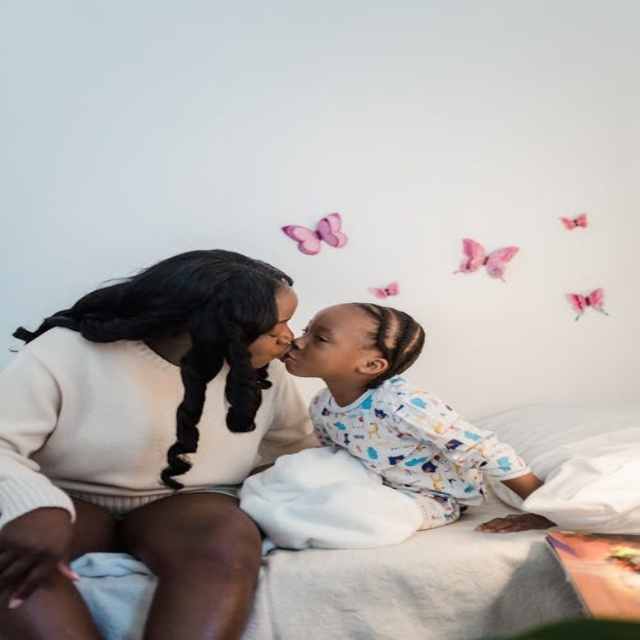Sin_gafas: (302, 319, 343, 346), (253, 317, 294, 339)
Sin_guantes: (0, 540, 78, 608), (477, 512, 551, 533)
